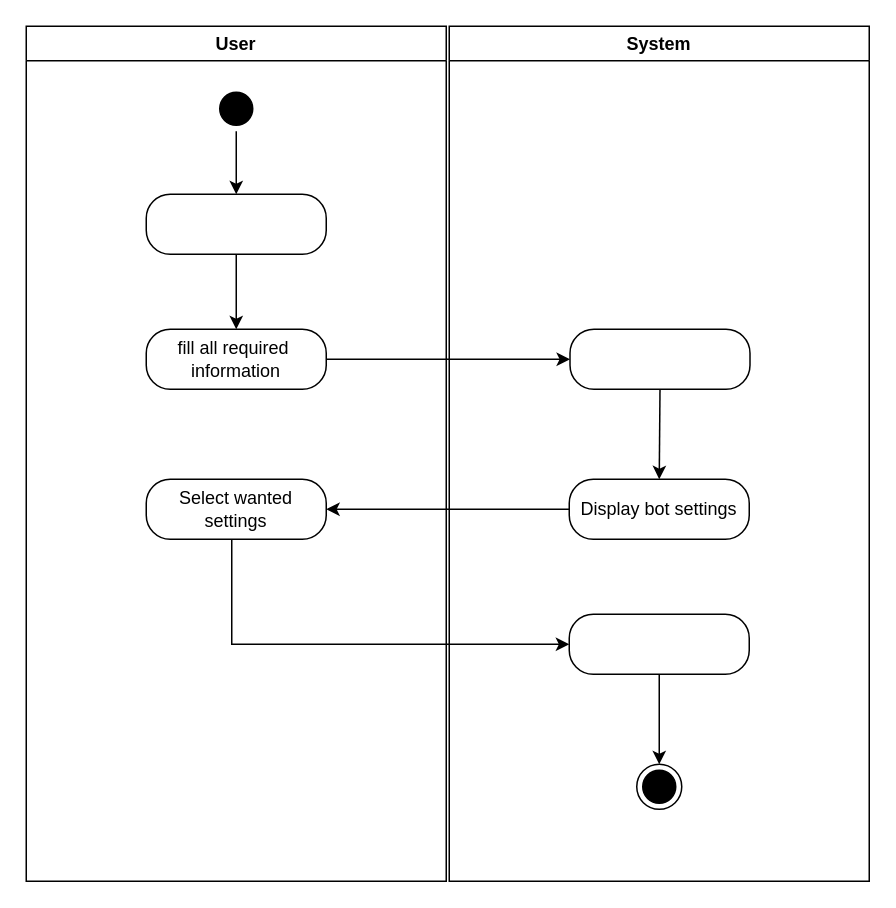
This 896x908 diagram has some shape labels left out. The shapes that lost their labels are listed below. From the top down, each one's centre as x and y in pixels, then its label:
the point at 235,223: Press Create button
the point at 659,358: Create portfolio
the point at 658,643: Save settings
